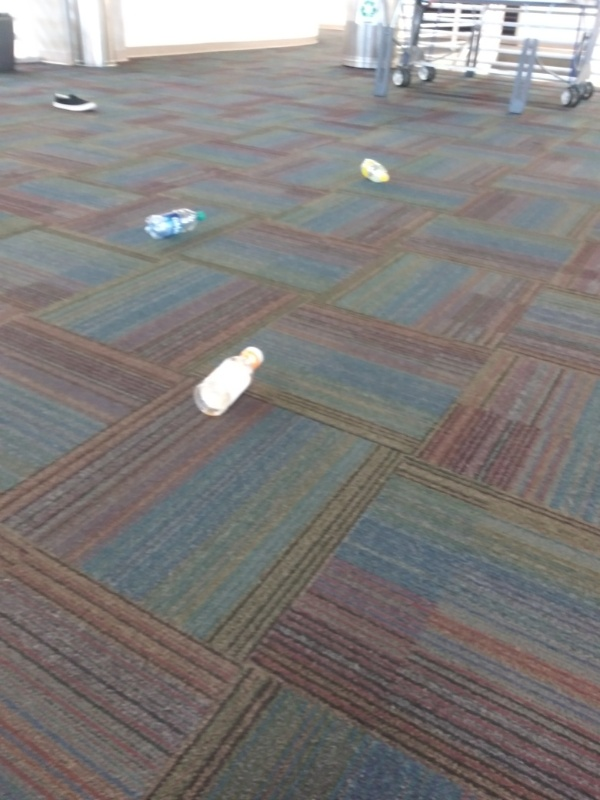bottle: (188, 344, 266, 420), (139, 204, 211, 241), (357, 155, 397, 188)
